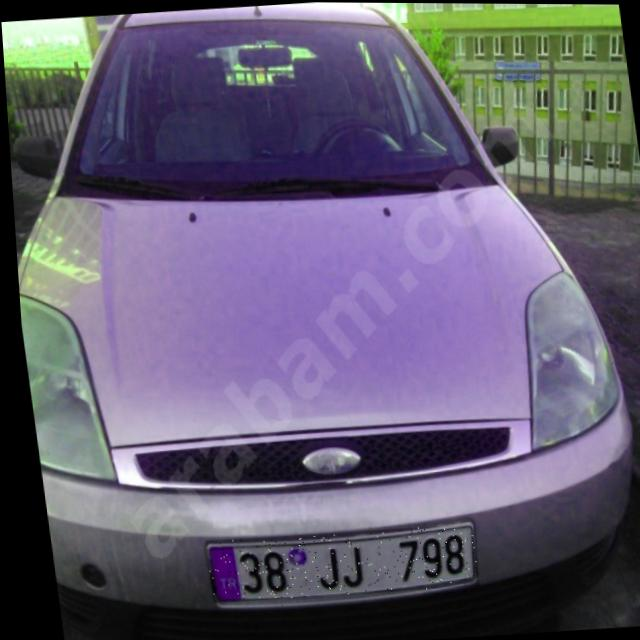license_plate: (196, 521, 472, 603)
